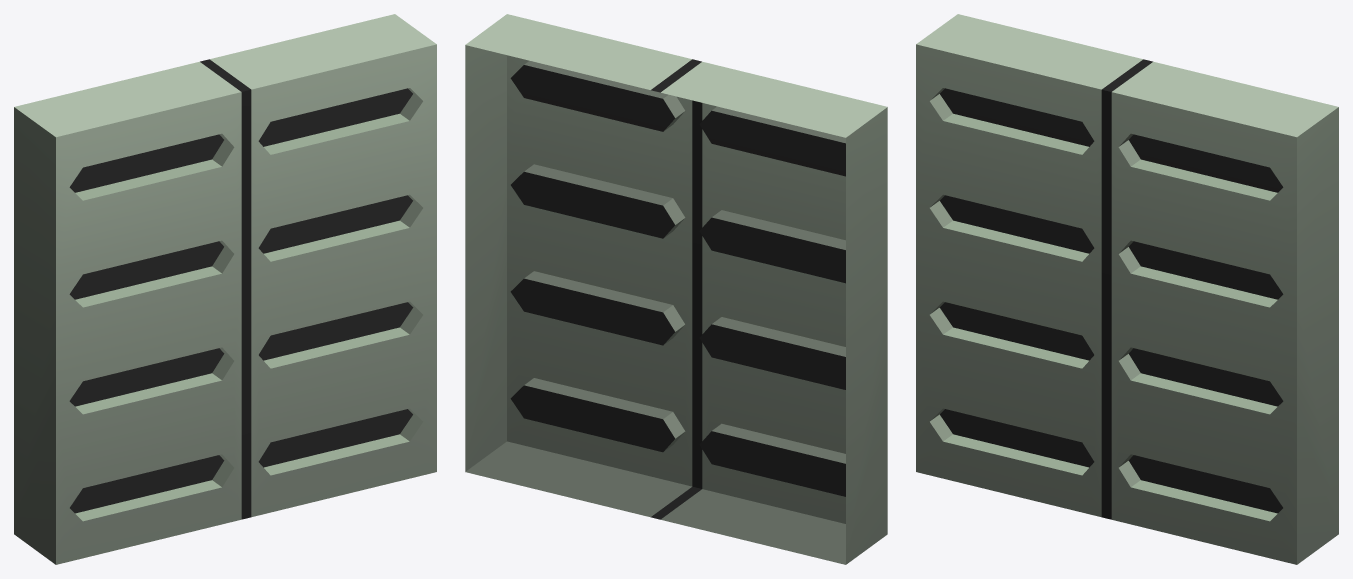
Rendered from Window_03B.fbx.
The picture shows the model from 3 angles, left to right: view 1: azimuth 30°, elevation 25°; view 2: azimuth 150°, elevation 25°; view 3: azimuth 330°, elevation 25°; orthographic projection.
Parts seen in each view (by area): view 1: Window_03B; view 2: Window_03B; view 3: Window_03B.
Boxes of the visible parts, x1,y1,x2,y2 form: Window_03B: (14,14,436,564); Window_03B: (465,14,887,564); Window_03B: (916,14,1338,564).
Bounding box in the file's own units: 99.83 × 107 × 19.02.
1 material, 1 textured.
